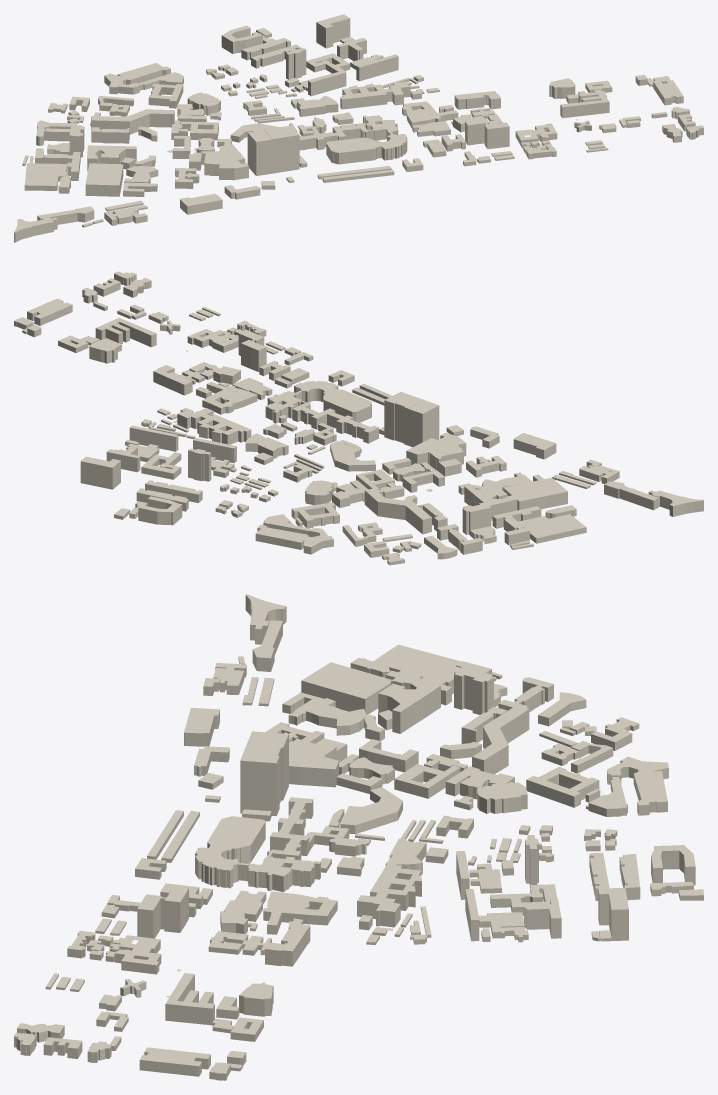
File: 3DModel_No_BG.gltf
The picture shows the model from 3 angles, top to bottom: view 1: azimuth 30°, elevation 25°; view 2: azimuth 150°, elevation 25°; view 3: azimuth 270°, elevation 25°; orthographic projection. The views are drawn at different scales.
Parts seen in each view (by area): view 1: fin_Buildings_min_max; view 2: fin_Buildings_min_max; view 3: fin_Buildings_min_max.
Part boxes in pixels (bbox=[...]): fin_Buildings_min_max: bbox=[14, 14, 703, 242]; fin_Buildings_min_max: bbox=[14, 271, 703, 565]; fin_Buildings_min_max: bbox=[14, 594, 703, 1080].
Size of what is drawn, in the model's own units: 1340 by 79.33 by 805.
